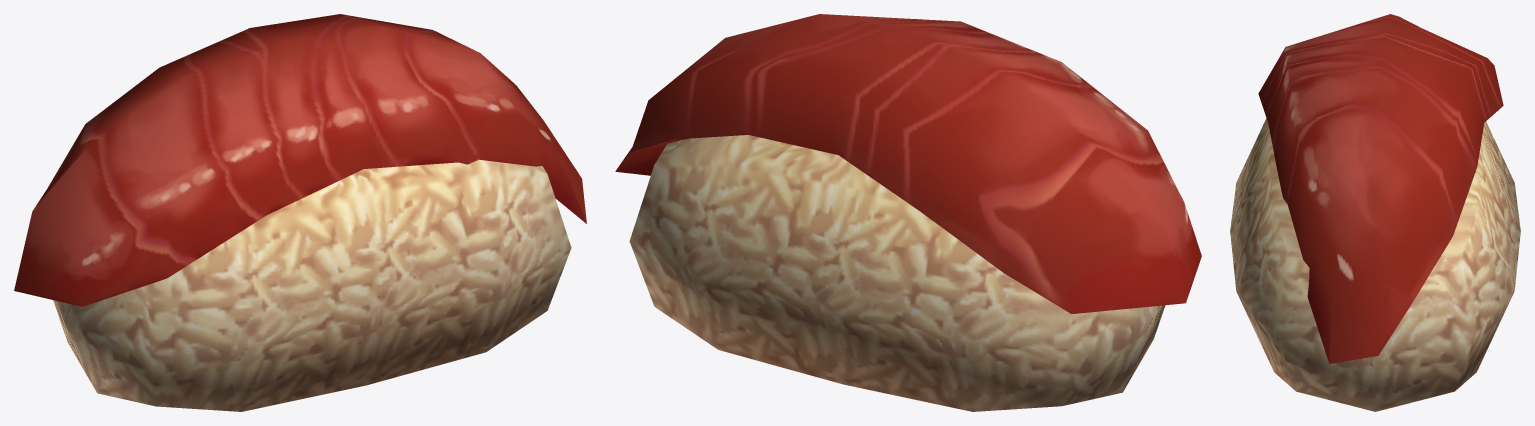
Rendered from SushisMaguro.fbx.
The picture shows the model from 3 angles, left to right: view 1: azimuth 30°, elevation 25°; view 2: azimuth 150°, elevation 25°; view 3: azimuth 270°, elevation 25°; orthographic projection. The views are drawn at different scales.
Visible parts, largest first — view 1: SushisMaguro.001, SushisMaguro; view 2: SushisMaguro.001, SushisMaguro; view 3: SushisMaguro.001, SushisMaguro.
Part boxes in pixels (box(x1,y1,x2,y2)): SushisMaguro.001: box(14, 14, 586, 306); SushisMaguro: box(53, 159, 571, 411); SushisMaguro.001: box(615, 14, 1201, 313); SushisMaguro: box(629, 135, 1165, 411); SushisMaguro.001: box(1258, 14, 1503, 363); SushisMaguro: box(1230, 118, 1520, 411).
Bounding box in the file's own units: 32.16 × 18.61 × 16.14.
